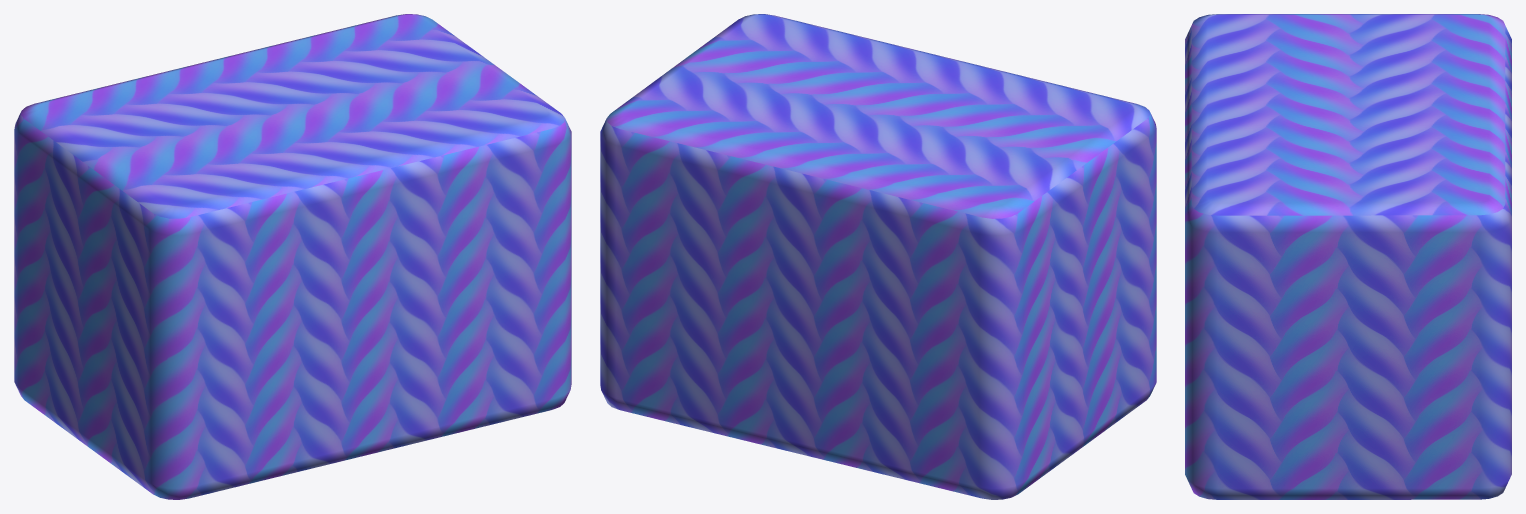
File: Box6 noline.fbx
3 renders of one model, left to right at view 1: azimuth 30°, elevation 25°; view 2: azimuth 150°, elevation 25°; view 3: azimuth 270°, elevation 25°, orthographic.
Visible parts, largest first — view 1: Box6_noline; view 2: Box6_noline; view 3: Box6_noline.
Boxes of the visible parts, box(x1,y1,x2,y2) form: Box6_noline: box(14, 14, 571, 499); Box6_noline: box(600, 14, 1156, 499); Box6_noline: box(1185, 14, 1511, 499).
Size of the model in its own units: 300 by 200 by 200.
